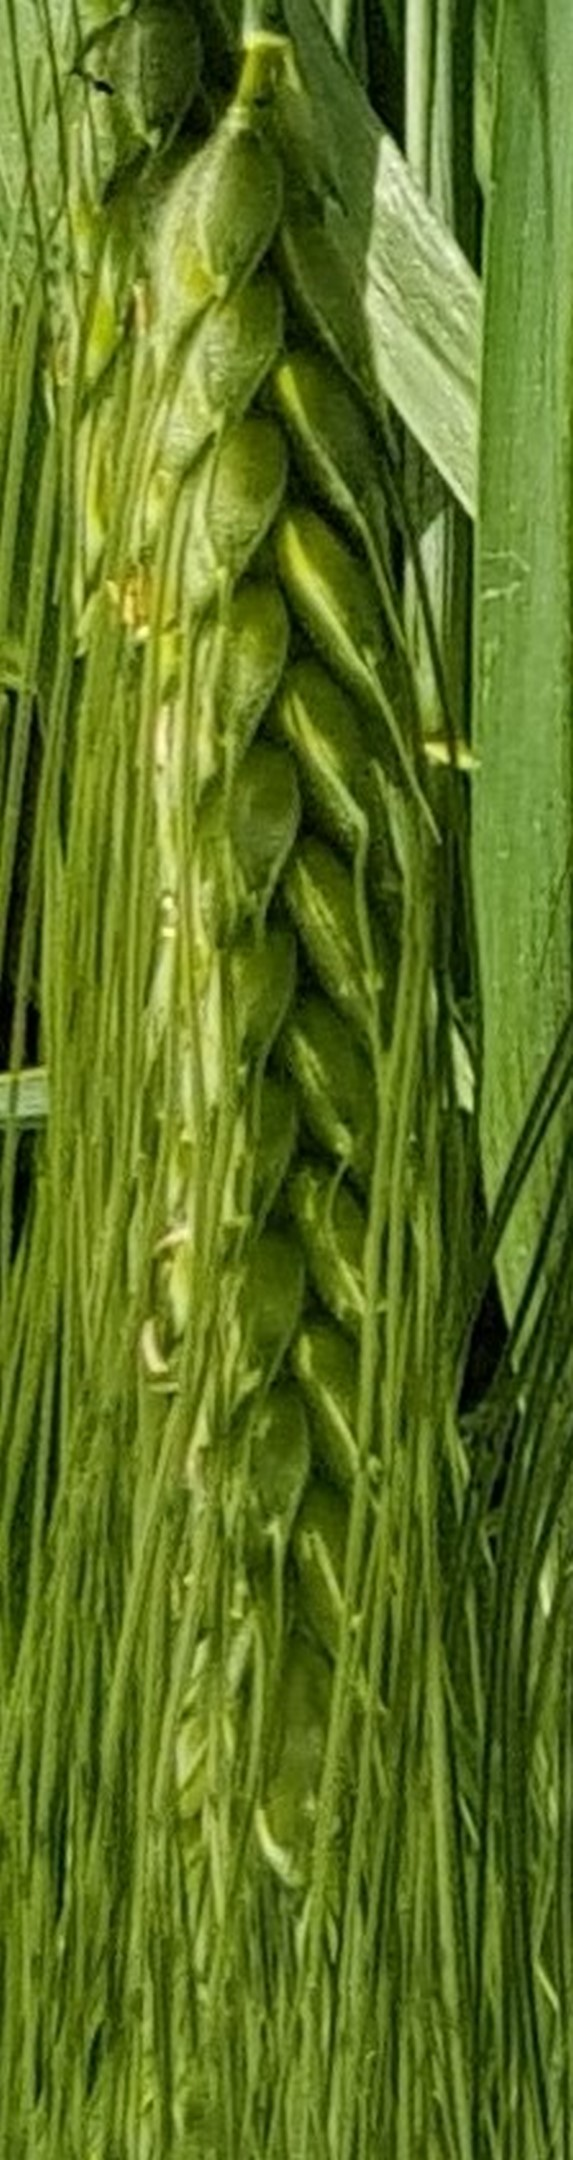Healthy Wheat: (118, 112, 460, 1824)
